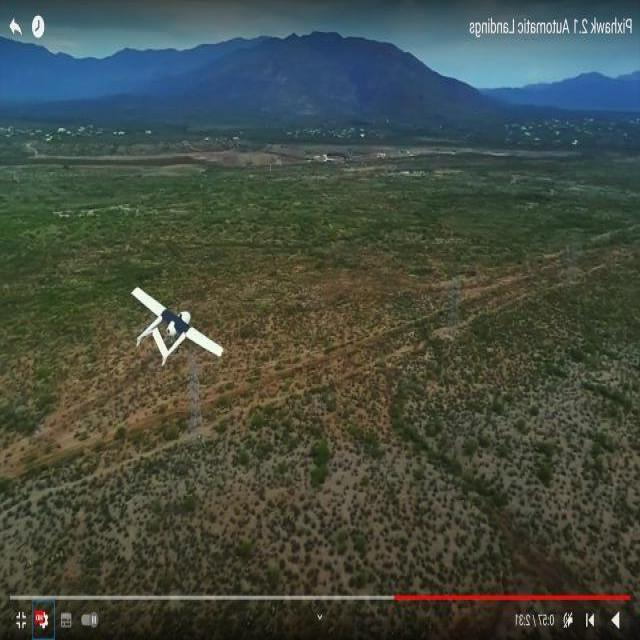UAV: (110, 296, 240, 380)
